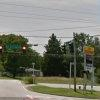Tree: (43, 22, 82, 78)
